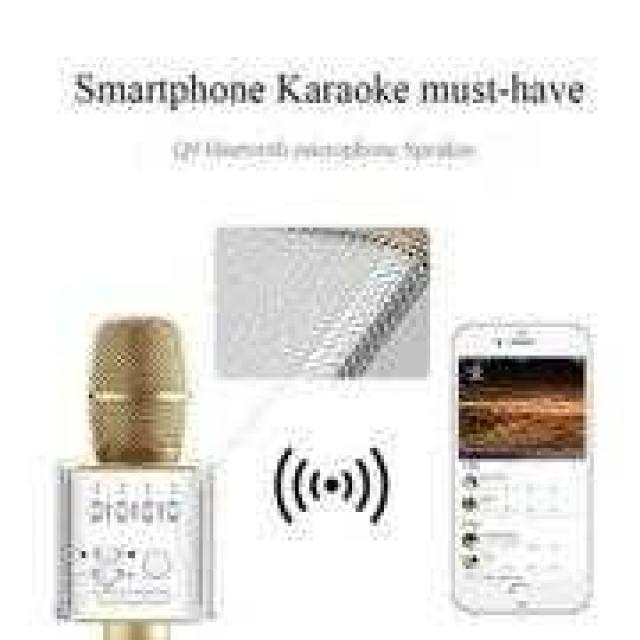microphone: (73, 297, 203, 619)
